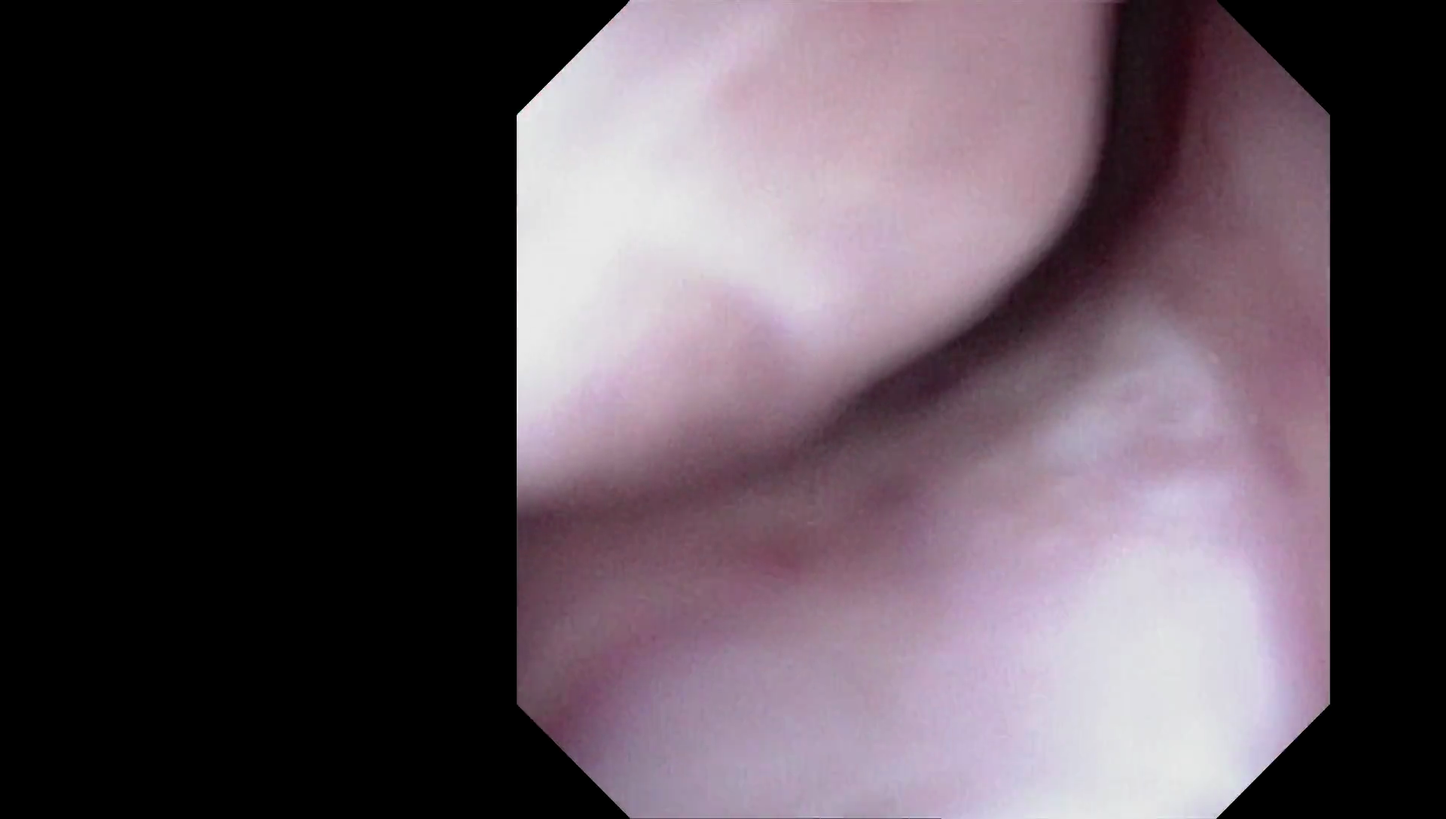close_wall: (548, 96, 1078, 403), (684, 504, 1287, 756)
next: (824, 25, 1203, 456)
